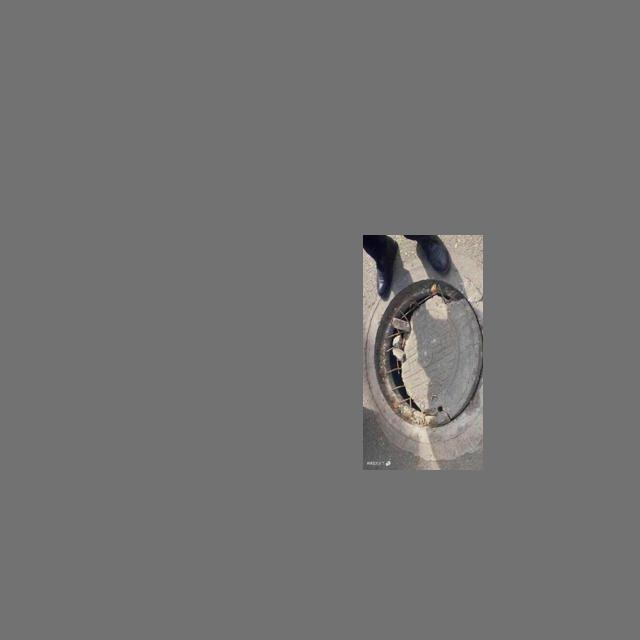broke: (367, 268, 482, 452)
